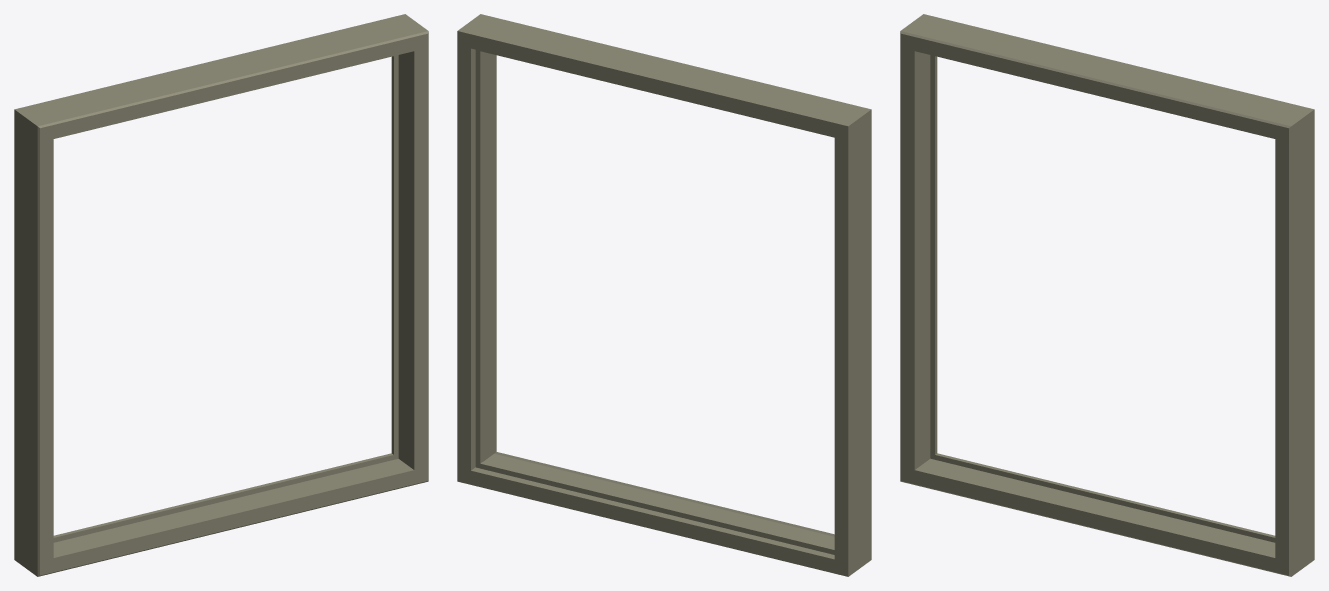
The model's file is cedar-source-window-surround.lod0.glb.
3 renders of one model, left to right at view 1: azimuth 30°, elevation 25°; view 2: azimuth 150°, elevation 25°; view 3: azimuth 330°, elevation 25°, orthographic.
Visible parts, largest first — view 1: window-frame; view 2: window-frame; view 3: window-frame.
Boxes of the visible parts, left/top/right/bottom form: window-frame: left=14, top=14, right=428, bottom=576; window-frame: left=457, top=14, right=871, bottom=576; window-frame: left=900, top=14, right=1314, bottom=576.
Bounding box in the file's own units: 1.5 × 1.65 × 0.16.
